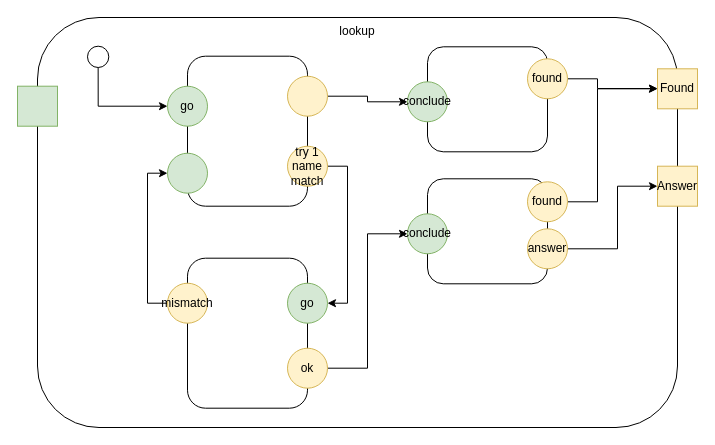
This 715x445 diagram has some shape labels left out. Here are the shapes that lost their labels. From the top down, the box of each, then its label:
(16, 85, 58, 126): name
(286, 75, 328, 116): EOF
(426, 46, 548, 152): unsuccessful
(186, 55, 308, 206): scroll through atoms
(166, 152, 208, 193): advance
(426, 178, 548, 284): successful
(186, 257, 308, 408): match single atom name
